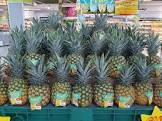Pineapple: (28, 56, 50, 110), (93, 51, 114, 106), (7, 54, 28, 107), (73, 58, 93, 106), (135, 60, 153, 107), (115, 64, 135, 106)
